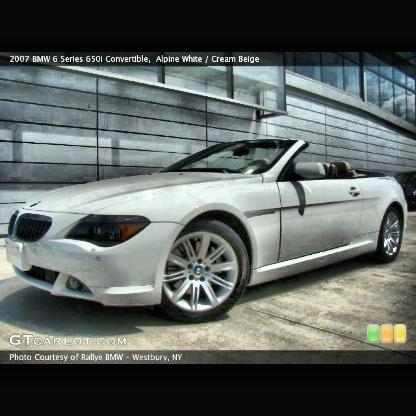BMW 6 Series Convertible 2007: (3, 136, 414, 329)
